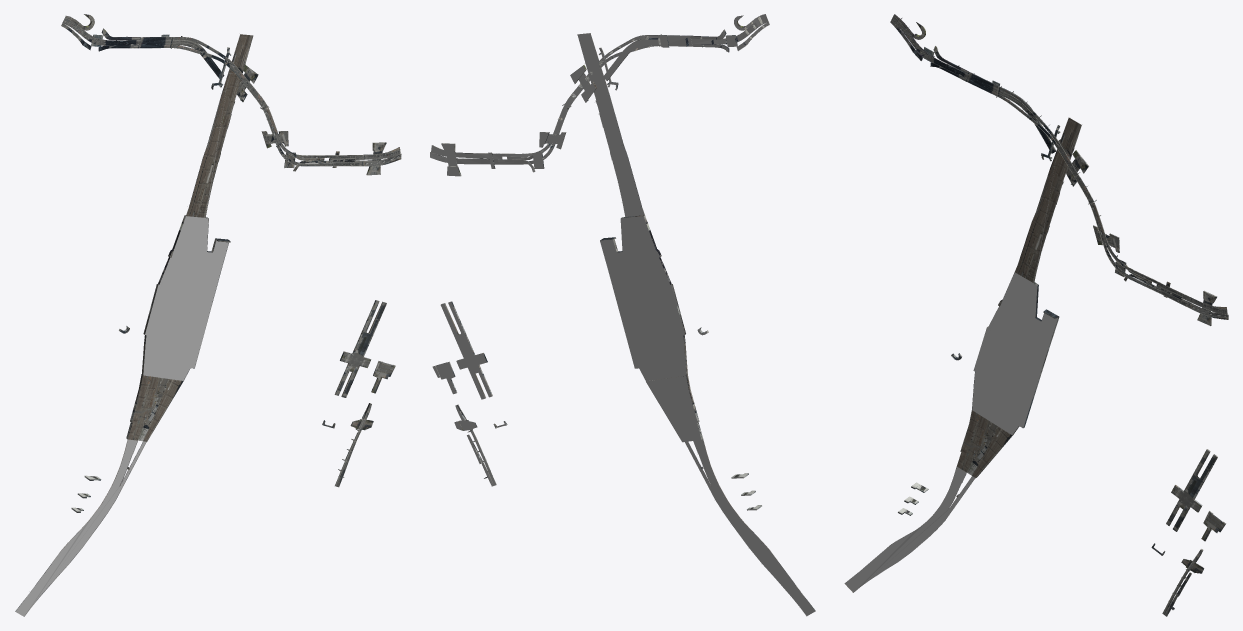
The model's file is TokyoStation_Bridge.fbx.
3 views of the same model, side by side, from view 1: azimuth 30°, elevation 25°; view 2: azimuth 150°, elevation 25°; view 3: azimuth 330°, elevation 25° (orthographic).
Parts seen in each view (by area): view 1: brid_7bc93612-1015-4bce-a749-f6bb7cf7aeec, brid_74d13577-7e6f-4f5f-8481-cab3020e6fdd, brid_84beab05-8859-4576-b328-dff25aedbf49, brid_16a37f83-96f2-44d1-9e29-4e59ab19483e, brid_e5407ffa-5912-4310-a68e-61699dc47275, brid_896821f6-7044-4131-8a4e-42e59db7b3a0, brid_28dfe306-3d85-44fd-9992-f725b4c130fa, brid_1b93cf2b-b715-4705-b1f0-c9267333431c, brid_57d7ec1b-ca3f-4ea0-b8b9-db604a2f7e8b; view 2: brid_7bc93612-1015-4bce-a749-f6bb7cf7aeec, brid_74d13577-7e6f-4f5f-8481-cab3020e6fdd, brid_84beab05-8859-4576-b328-dff25aedbf49, brid_16a37f83-96f2-44d1-9e29-4e59ab19483e, brid_e5407ffa-5912-4310-a68e-61699dc47275, brid_28dfe306-3d85-44fd-9992-f725b4c130fa, brid_896821f6-7044-4131-8a4e-42e59db7b3a0, brid_1b93cf2b-b715-4705-b1f0-c9267333431c, brid_57d7ec1b-ca3f-4ea0-b8b9-db604a2f7e8b; view 3: brid_7bc93612-1015-4bce-a749-f6bb7cf7aeec, brid_74d13577-7e6f-4f5f-8481-cab3020e6fdd, brid_84beab05-8859-4576-b328-dff25aedbf49, brid_16a37f83-96f2-44d1-9e29-4e59ab19483e, brid_896821f6-7044-4131-8a4e-42e59db7b3a0, brid_28dfe306-3d85-44fd-9992-f725b4c130fa, brid_e5407ffa-5912-4310-a68e-61699dc47275, brid_1b93cf2b-b715-4705-b1f0-c9267333431c, brid_57d7ec1b-ca3f-4ea0-b8b9-db604a2f7e8b.
Boxes of the visible parts, x1,y1,x2,y2 form: brid_7bc93612-1015-4bce-a749-f6bb7cf7aeec: (141, 215, 230, 380); brid_74d13577-7e6f-4f5f-8481-cab3020e6fdd: (186, 34, 253, 217); brid_84beab05-8859-4576-b328-dff25aedbf49: (15, 439, 146, 616); brid_16a37f83-96f2-44d1-9e29-4e59ab19483e: (126, 374, 183, 441); brid_e5407ffa-5912-4310-a68e-61699dc47275: (334, 300, 386, 397); brid_896821f6-7044-4131-8a4e-42e59db7b3a0: (288, 147, 401, 171); brid_28dfe306-3d85-44fd-9992-f725b4c130fa: (139, 36, 234, 78); brid_1b93cf2b-b715-4705-b1f0-c9267333431c: (61, 14, 140, 51); brid_57d7ec1b-ca3f-4ea0-b8b9-db604a2f7e8b: (230, 64, 295, 162); brid_7bc93612-1015-4bce-a749-f6bb7cf7aeec: (600, 215, 687, 381); brid_74d13577-7e6f-4f5f-8481-cab3020e6fdd: (577, 33, 644, 216); brid_84beab05-8859-4576-b328-dff25aedbf49: (685, 439, 815, 616); brid_16a37f83-96f2-44d1-9e29-4e59ab19483e: (646, 375, 702, 442); brid_e5407ffa-5912-4310-a68e-61699dc47275: (440, 301, 492, 399); brid_28dfe306-3d85-44fd-9992-f725b4c130fa: (598, 34, 692, 80); brid_896821f6-7044-4131-8a4e-42e59db7b3a0: (430, 145, 543, 172); brid_1b93cf2b-b715-4705-b1f0-c9267333431c: (690, 14, 769, 52); brid_57d7ec1b-ca3f-4ea0-b8b9-db604a2f7e8b: (536, 61, 603, 159); brid_7bc93612-1015-4bce-a749-f6bb7cf7aeec: (972, 272, 1059, 435); brid_74d13577-7e6f-4f5f-8481-cab3020e6fdd: (1015, 117, 1081, 283); brid_84beab05-8859-4576-b328-dff25aedbf49: (844, 467, 975, 592); brid_16a37f83-96f2-44d1-9e29-4e59ab19483e: (956, 410, 1012, 478); brid_896821f6-7044-4131-8a4e-42e59db7b3a0: (1116, 258, 1228, 319); brid_28dfe306-3d85-44fd-9992-f725b4c130fa: (967, 72, 1060, 153); brid_e5407ffa-5912-4310-a68e-61699dc47275: (1166, 449, 1217, 531); brid_1b93cf2b-b715-4705-b1f0-c9267333431c: (890, 14, 968, 81); brid_57d7ec1b-ca3f-4ea0-b8b9-db604a2f7e8b: (1055, 143, 1123, 271).
Size of the model in its own units: 1277 by 36.58 by 1870.
